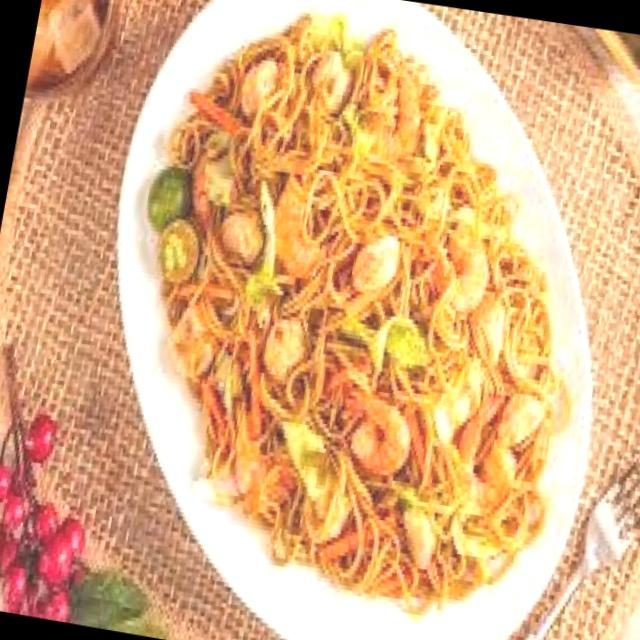pancit bihon: (174, 13, 543, 594)
